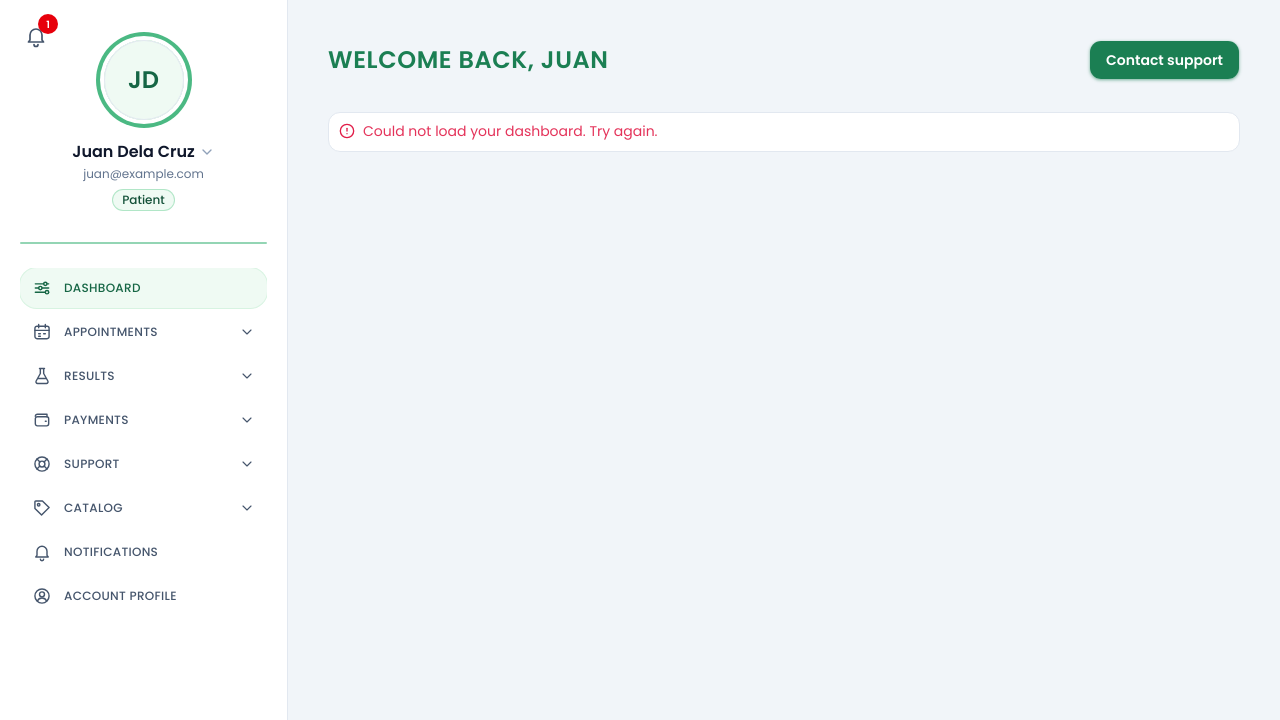
Test: notifications › shows the unread count on the bell and opens a notification's page
Click the button named "Notifications, 1 unread": (36, 36) [16,16,56,56]
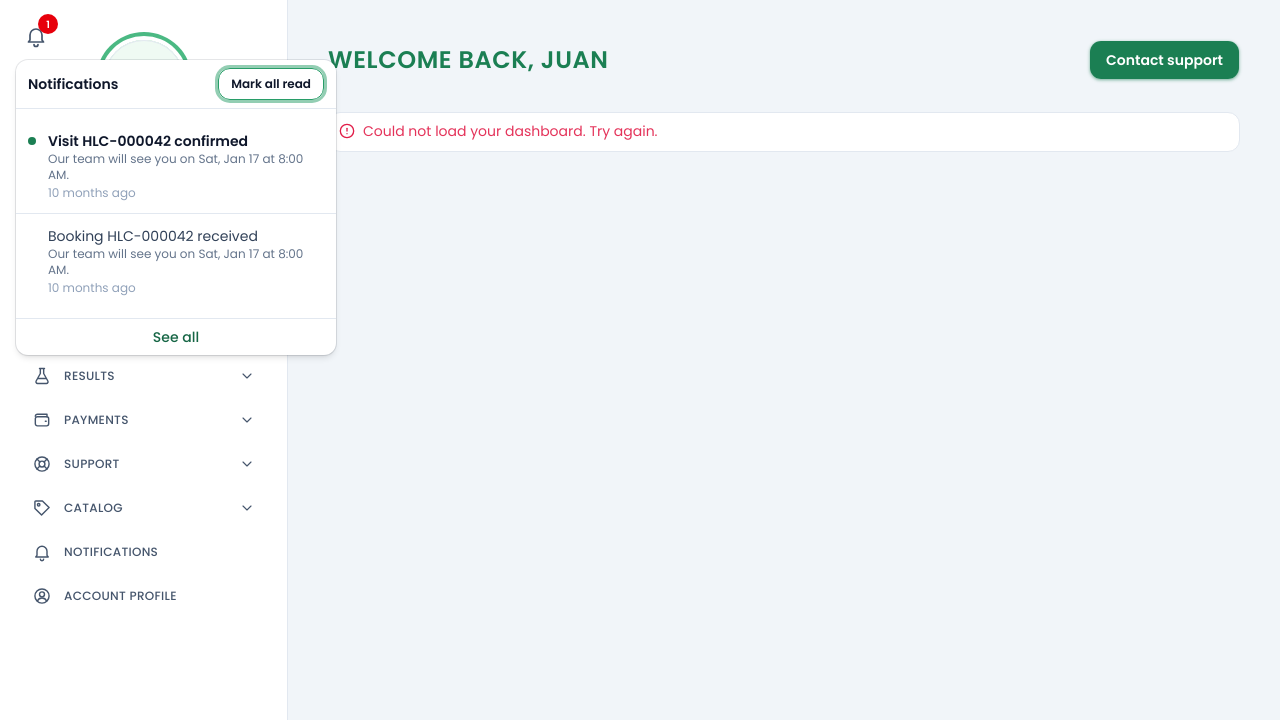
Expected: the text "Booking HLC-000042 received" is shown, [48,226,258,246]
Click the text "Visit HLC-000042 confirmed": (186, 141) [48,131,324,151]
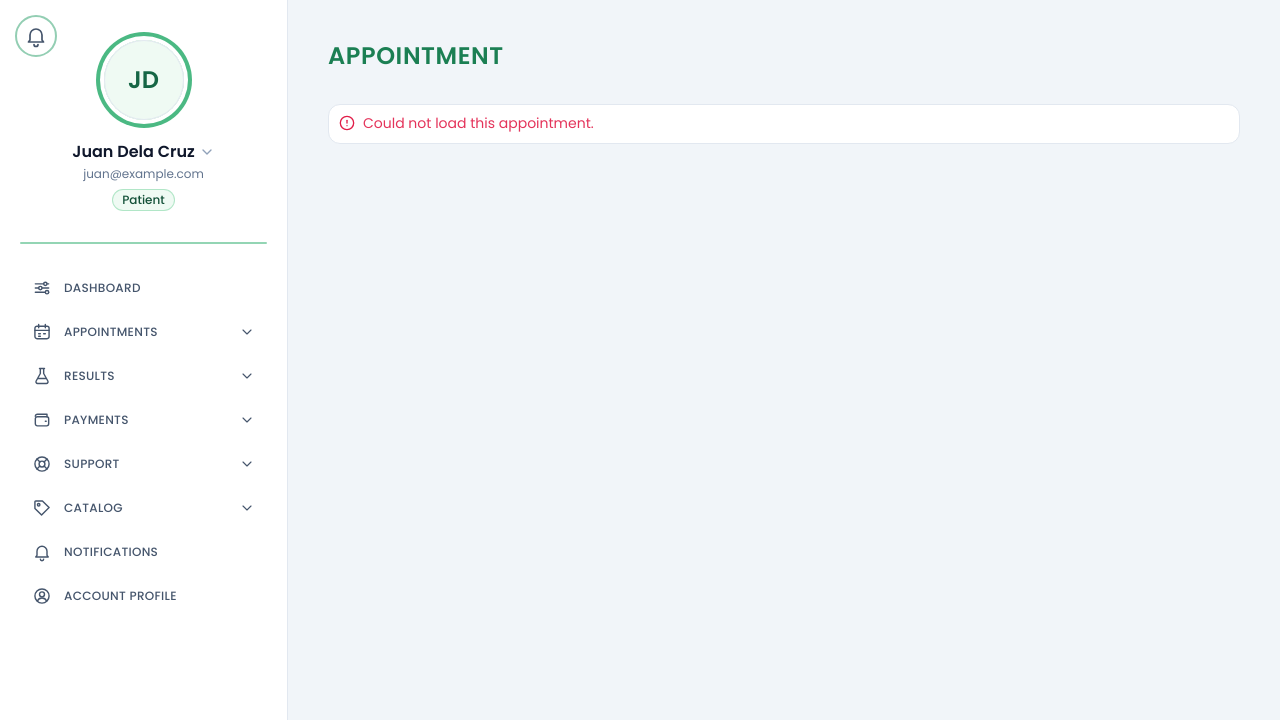
Expected: the button named "Notifications" is shown, [16,16,56,56]
Expected: the text "Could not load this appointment." is shown, [363,113,594,133]
